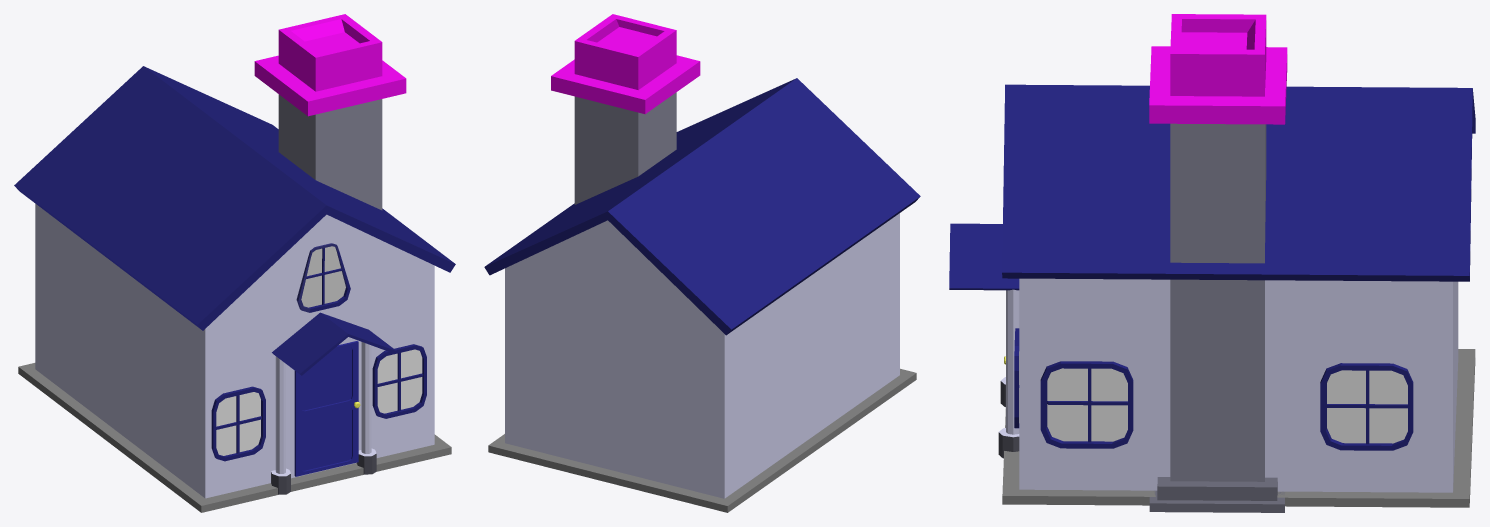
File: small2.glb
The picture shows the model from 3 angles, left to right: view 1: azimuth 30°, elevation 25°; view 2: azimuth 150°, elevation 25°; view 3: azimuth 270°, elevation 25°; orthographic projection. The views are drawn at different scales.
Visible parts, largest first — view 1: Residential 6.005; view 2: Residential 6.005; view 3: Residential 6.005.
Boxes of the visible parts, x1,y1,x2,y2 form: Residential 6.005: [14, 14, 455, 512]; Residential 6.005: [484, 14, 920, 512]; Residential 6.005: [949, 14, 1475, 512].
Size of the model in its own units: 7.06 by 9.15 by 9.71.
Materials: 1 (1 with a texture image).
